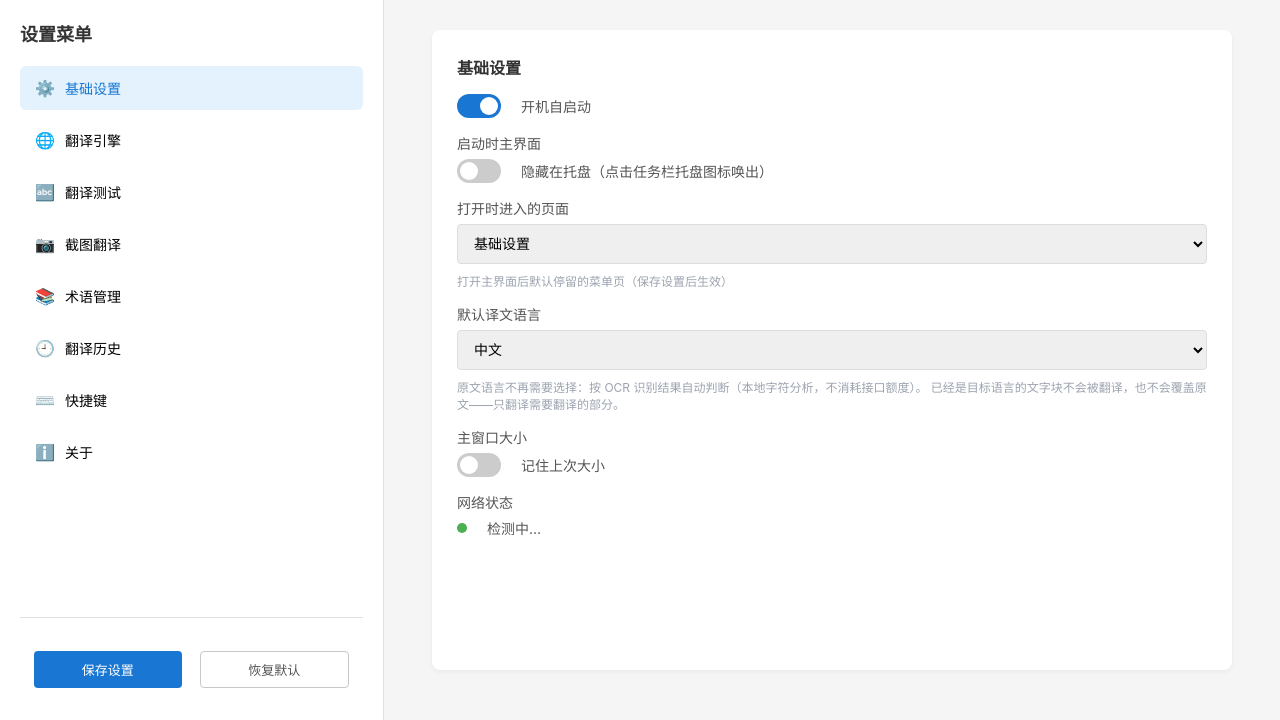
Test case: App（主框架） › 功能: 保存/恢复默认在全部菜单 tab 可用（含关于页）
This screenshot has width=1280, height=720.
Expected: the heading "设置菜单" is shown, [20,24,92,45]
Expected: the button "保存设置" is shown, [34,651,182,688]
Click the text "关于" at x=79, y=452, box [65,442,93,462]
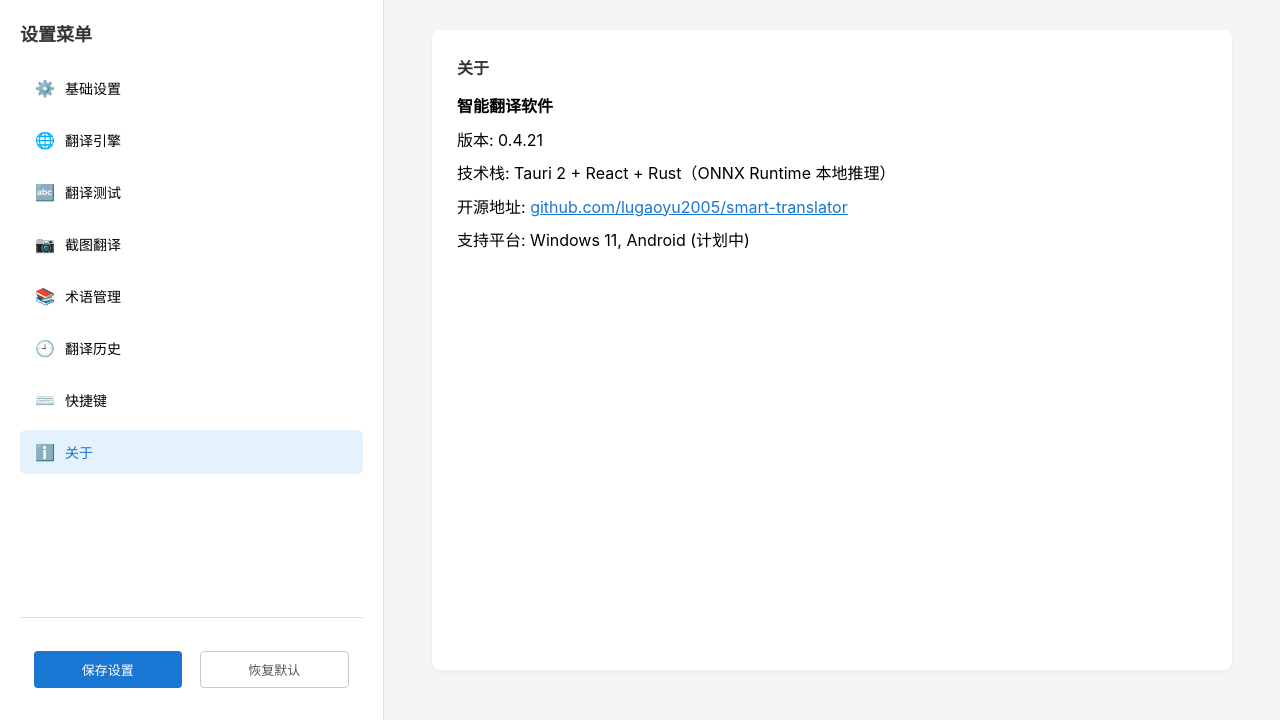
Expected: the button "保存设置" is shown, [34,651,182,688]
Expected: the text "版本: 0.4.21" is shown, [457,130,543,150]
